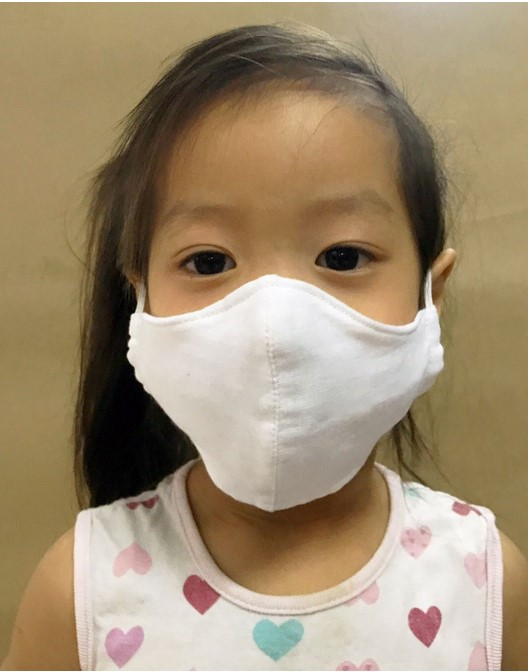face_with_mask: (104, 23, 457, 516)
